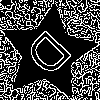D: (23, 28, 81, 86)
